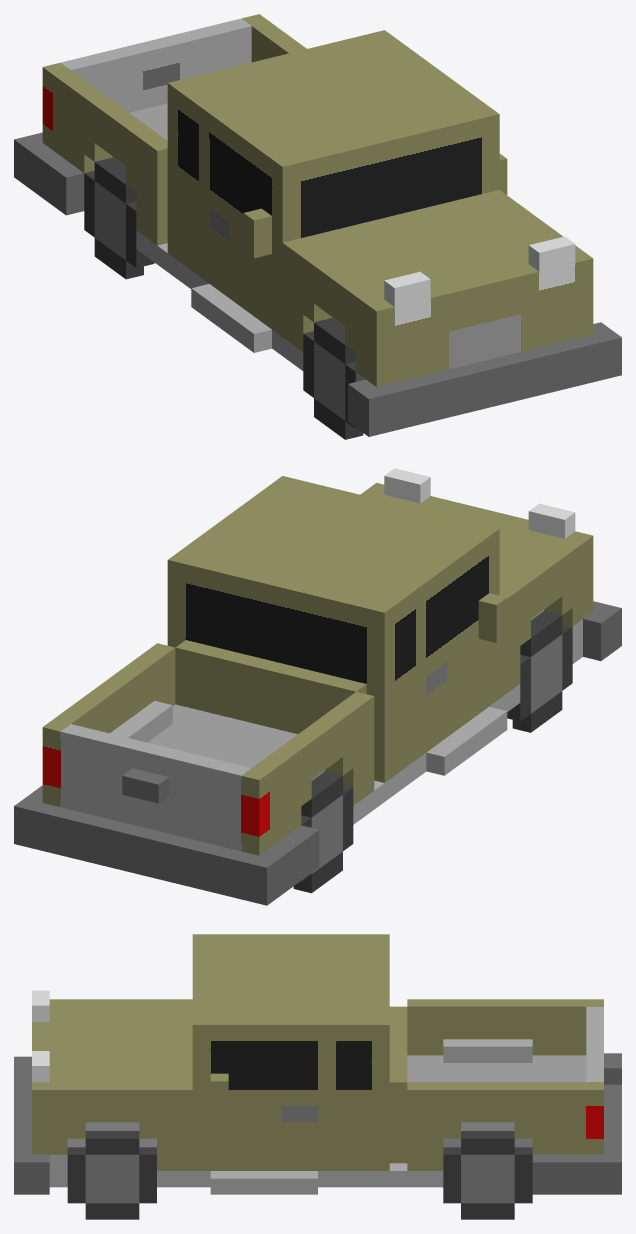
Rendered from veh_truck3.dae.
3 renders of one model, top to bottom at view 1: azimuth 30°, elevation 25°; view 2: azimuth 150°, elevation 25°; view 3: azimuth 270°, elevation 25°, orthographic. The views are drawn at different scales.
Parts seen in each view (by area): view 1: veh_truck3; view 2: veh_truck3; view 3: veh_truck3.
Boxes of the visible parts, x1=… form: veh_truck3: x1=14, y1=14, x2=621, y2=439; veh_truck3: x1=14, y1=468, x2=621, y2=905; veh_truck3: x1=14, y1=934, x2=621, y2=1219.
Size of the model in its own units: 1.4 by 3.4 by 1.2.
1 material, 1 textured.
